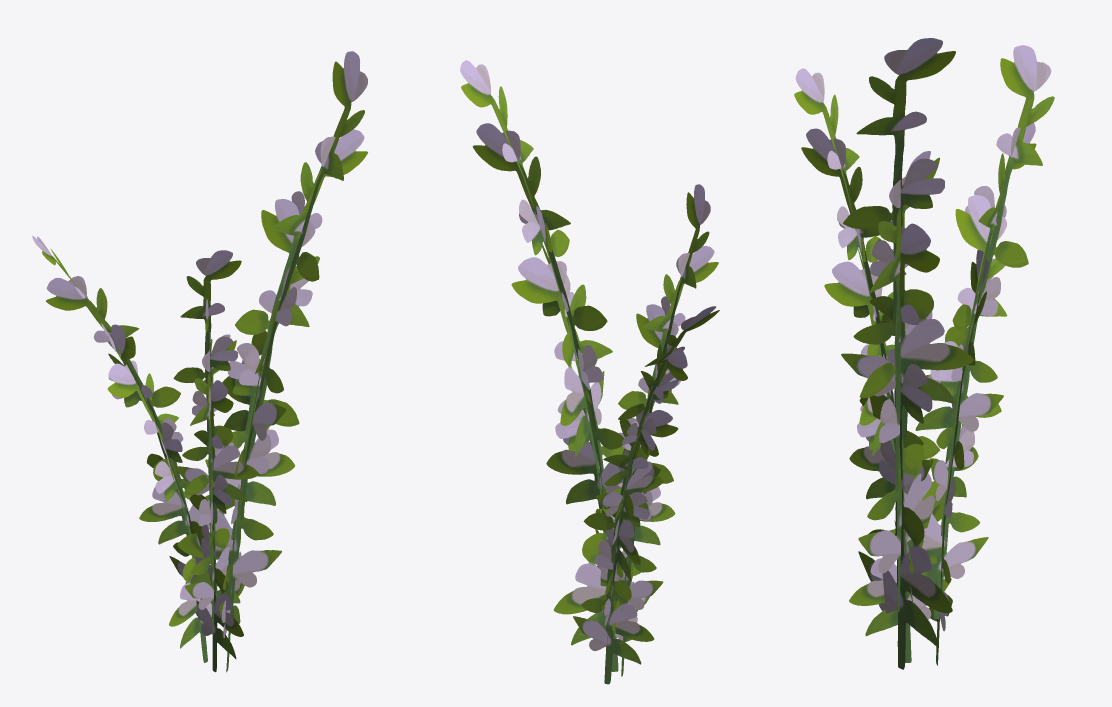
The model's file is AR_Flowers_001.FBX.
3 renders of one model, left to right at view 1: azimuth 30°, elevation 25°; view 2: azimuth 150°, elevation 25°; view 3: azimuth 270°, elevation 25°, orthographic. The views are drawn at different scales.
Visible parts, largest first — view 1: AR_Flowers_001; view 2: AR_Flowers_001; view 3: AR_Flowers_001.
Part boxes in pixels (<box>): AR_Flowers_001: <box>32,51,367,672</box>; AR_Flowers_001: <box>460,60,719,684</box>; AR_Flowers_001: <box>794,38,1054,669</box>.
Bounding box in the file's own units: 29.1 × 49.33 × 19.62.
